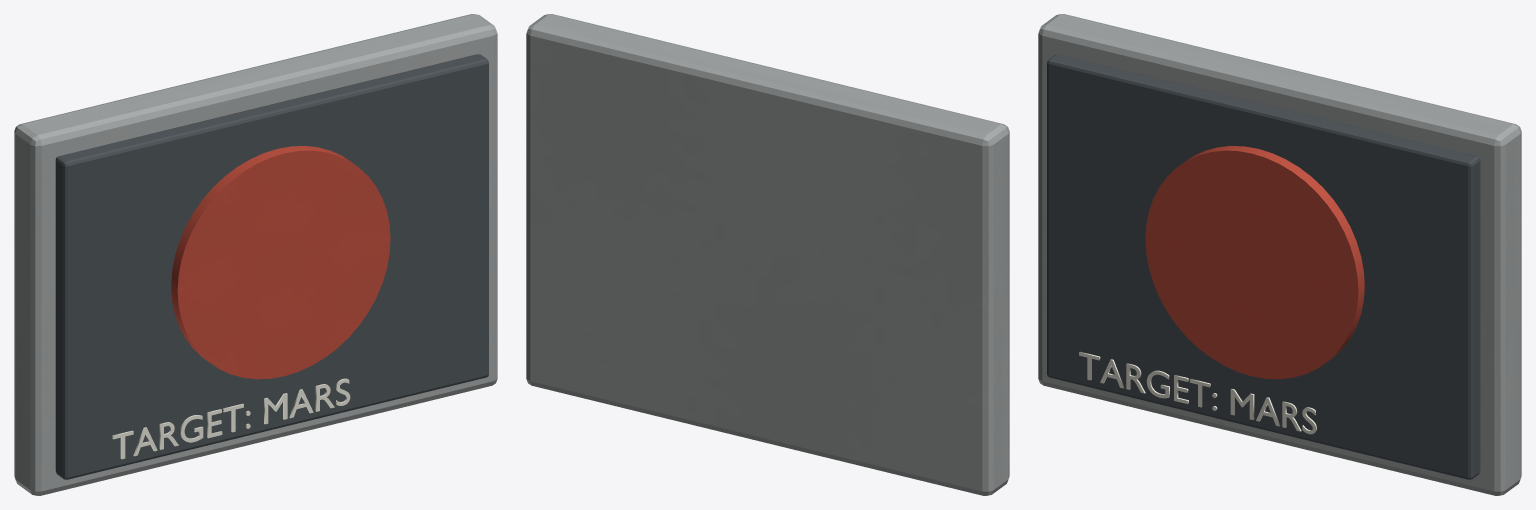
File: mission_target_photo.glb
The picture shows the model from 3 angles, left to right: view 1: azimuth 30°, elevation 25°; view 2: azimuth 150°, elevation 25°; view 3: azimuth 330°, elevation 25°; orthographic projection.
Parts seen in each view (by area): view 1: PhotoField, Frame.006, PlanetImage, LABEL_TARGET:_MARS; view 2: Frame.006; view 3: PhotoField, Frame.006, PlanetImage, LABEL_TARGET:_MARS.
Boxes of the visible parts, left/top/right/bottom form: PhotoField: left=55, top=54, right=488, bottom=479; Frame.006: left=14, top=14, right=497, bottom=495; PlanetImage: left=171, top=146, right=390, bottom=379; LABEL_TARGET:_MARS: left=112, top=378, right=350, bottom=459; Frame.006: left=526, top=14, right=1009, bottom=495; PhotoField: left=1047, top=54, right=1480, bottom=479; Frame.006: left=1038, top=14, right=1521, bottom=495; PlanetImage: left=1145, top=146, right=1364, bottom=379; LABEL_TARGET:_MARS: left=1079, top=351, right=1316, bottom=434.
Size of the model in its own units: 0.46 by 0.34 by 0.0698.
Materials: 4 (2 with a texture image).
